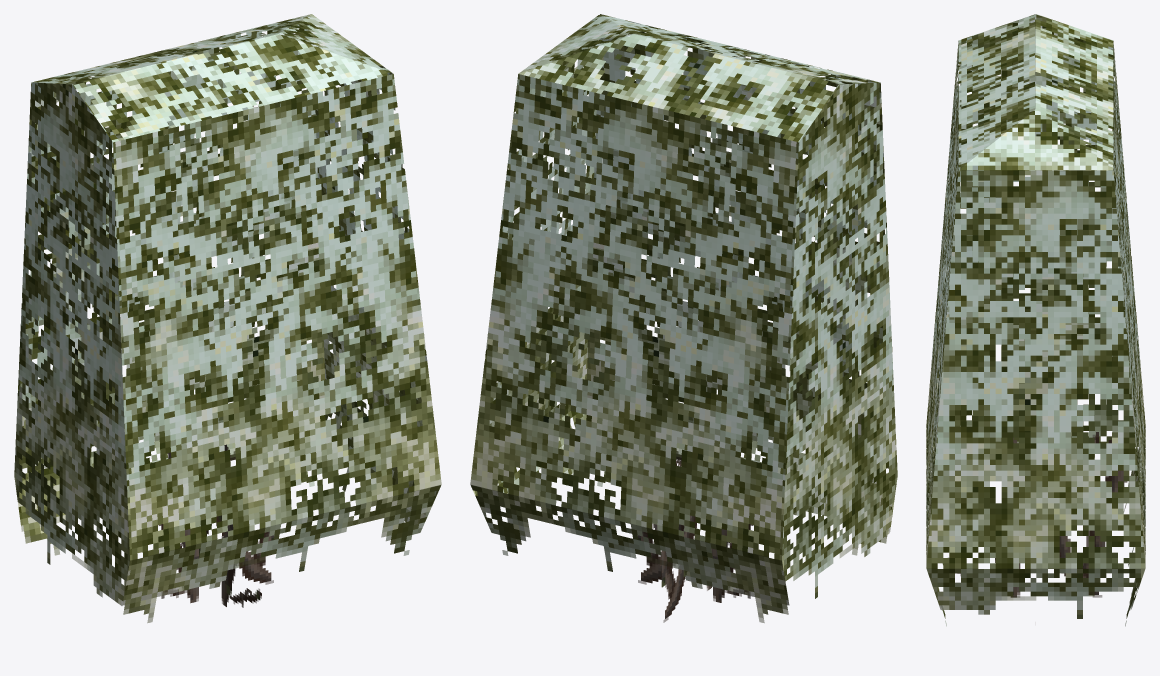
The model's file is bush_tall_half_open_right_roots_winter.glb.
The picture shows the model from 3 angles, left to right: view 1: azimuth 30°, elevation 25°; view 2: azimuth 150°, elevation 25°; view 3: azimuth 270°, elevation 25°; orthographic projection. The views are drawn at different scales.
Parts seen in each view (by area): view 1: bush_tall_half_open_right_roots_winter; view 2: bush_tall_half_open_right_roots_winter; view 3: bush_tall_half_open_right_roots_winter.
Boxes of the visible parts, left/top/right/bottom form: bush_tall_half_open_right_roots_winter: left=14, top=14, right=441, bottom=622; bush_tall_half_open_right_roots_winter: left=470, top=14, right=897, bottom=622; bush_tall_half_open_right_roots_winter: left=926, top=14, right=1145, bottom=626.
Size of the model in its own units: 1.12 by 1.88 by 0.7191.
Materials: 2 (2 with a texture image).
